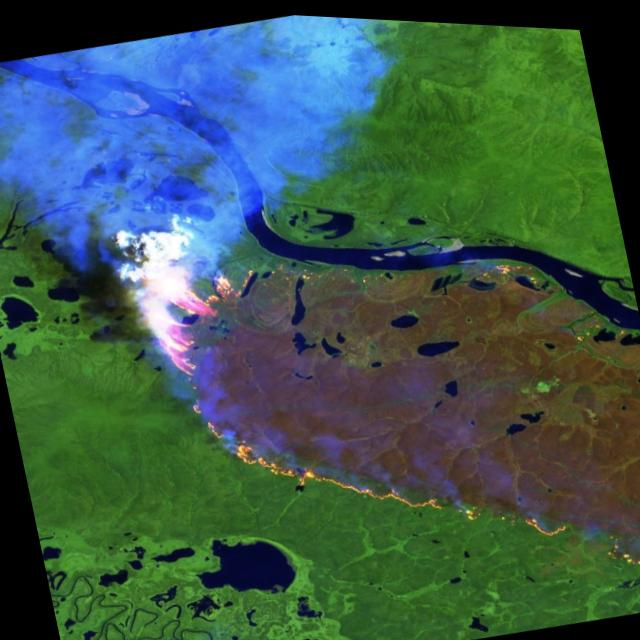fire: (100, 118, 640, 640)
